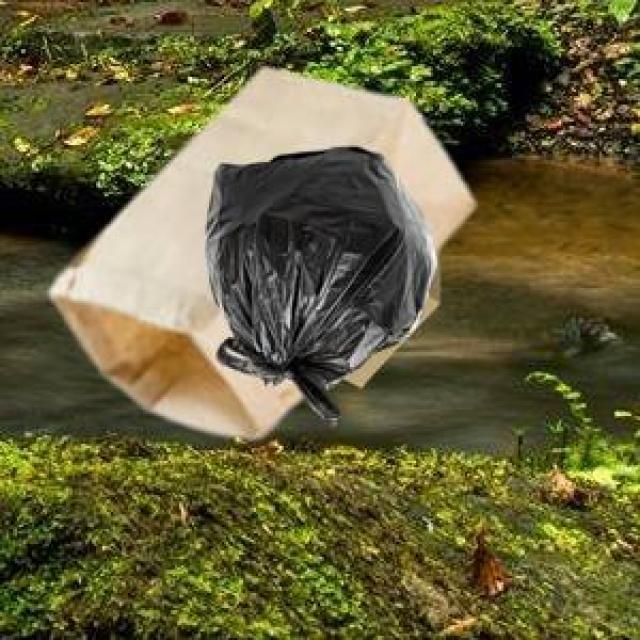miscellaneous trash: (198, 143, 433, 422)
paper: (47, 64, 469, 433), (339, 245, 435, 384)
